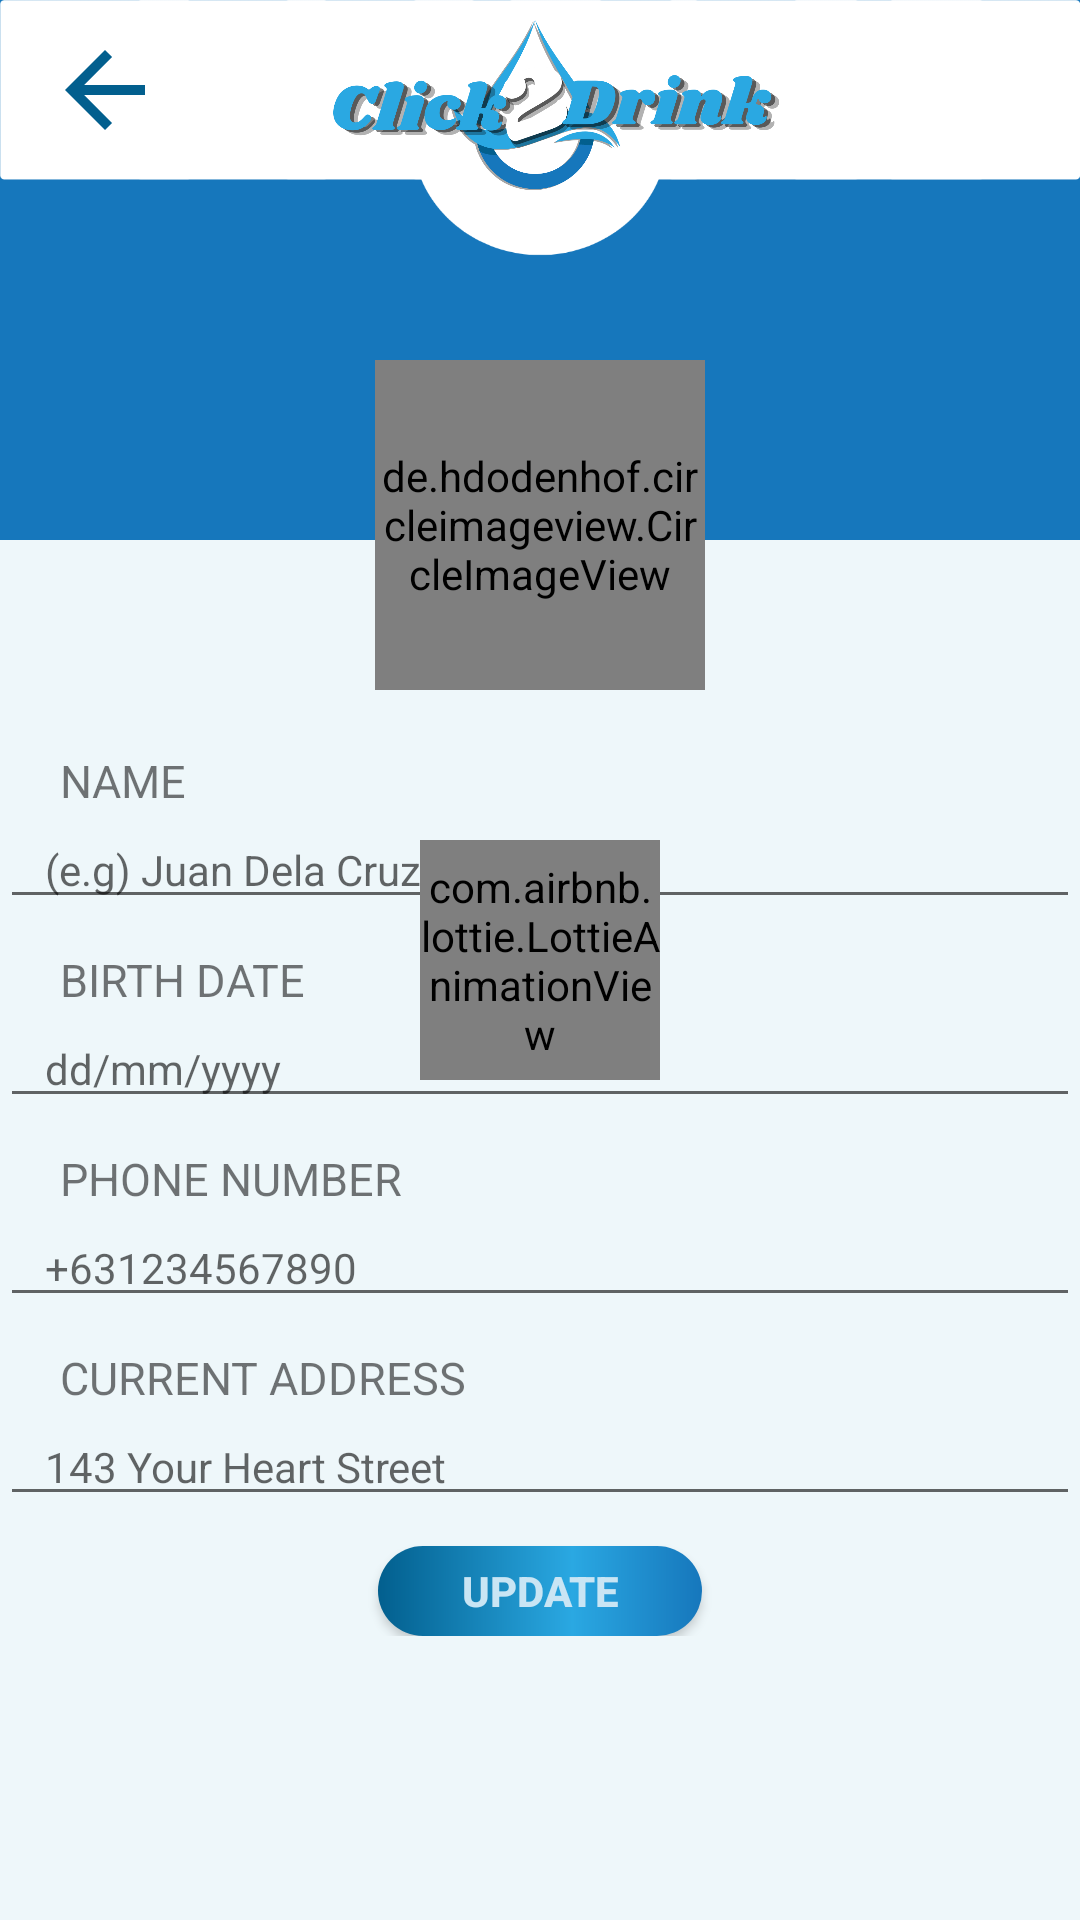

Where icons sit on this 1080*1920 app screen, as (x1, y1, x2, y2):
back: (65, 50, 145, 130)
